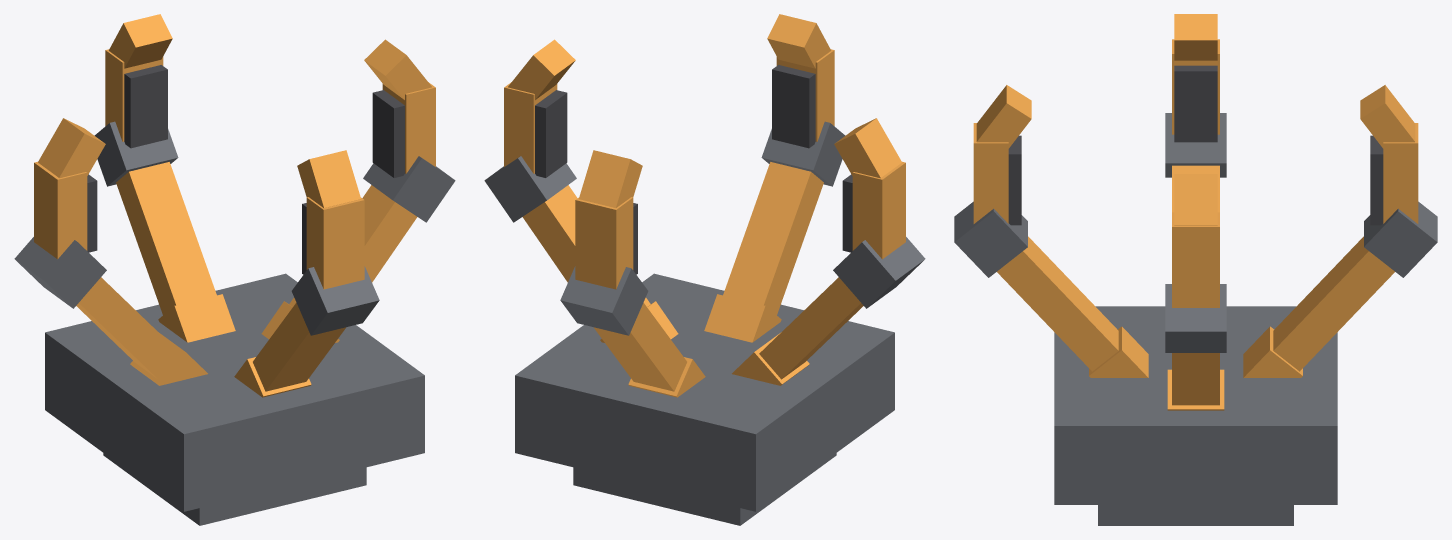
The model's file is gripper.glb.
3 views of the same model, side by side, from view 1: azimuth 30°, elevation 25°; view 2: azimuth 150°, elevation 25°; view 3: azimuth 270°, elevation 25° (orthographic).
Visible parts, largest first — view 1: Palm, Finger1, Finger2, Finger3, Knuckle3, Knuckle2, Knuckle1, Knuckle0, Finger0; view 2: Palm, Finger3, Finger2, Finger1, Knuckle1, Knuckle2, Knuckle3, Knuckle0, Finger0; view 3: Palm, Finger1, Finger3, Finger0, Knuckle0, Knuckle1, Knuckle3, Knuckle2, Finger2.
Boxes of the visible parts, x1=… form: Palm: x1=45, y1=273, x2=424, y2=525; Finger1: x1=94, y1=121, x2=235, y2=342; Finger2: x1=14, y1=237, x2=207, y2=385; Finger3: x1=234, y1=266, x2=379, y2=397; Knuckle3: x1=297, y1=150, x2=364, y2=289; Knuckle2: x1=34, y1=118, x2=105, y2=259; Knuckle1: x1=105, y1=14, x2=172, y2=148; Knuckle0: x1=364, y1=39, x2=435, y2=177; Finger0: x1=261, y1=156, x2=455, y2=342; Palm: x1=515, y1=273, x2=894, y2=525; Finger3: x1=704, y1=121, x2=845, y2=342; Finger2: x1=732, y1=237, x2=925, y2=385; Finger1: x1=560, y1=266, x2=705, y2=397; Knuckle1: x1=575, y1=150, x2=642, y2=289; Knuckle2: x1=834, y1=118, x2=905, y2=259; Knuckle3: x1=767, y1=14, x2=834, y2=148; Knuckle0: x1=504, y1=39, x2=575, y2=177; Finger0: x1=484, y1=156, x2=678, y2=342; Palm: x1=1054, y1=306, x2=1337, y2=525; Finger1: x1=1243, y1=201, x2=1437, y2=377; Finger3: x1=954, y1=201, x2=1148, y2=377; Finger0: x1=1165, y1=284, x2=1226, y2=410; Knuckle0: x1=1172, y1=174, x2=1219, y2=307; Knuckle1: x1=1360, y1=85, x2=1418, y2=225; Knuckle3: x1=973, y1=85, x2=1031, y2=225; Knuckle2: x1=1172, y1=14, x2=1219, y2=142; Finger2: x1=1165, y1=113, x2=1226, y2=212.
Size of the model in its own units: 0.2219 by 0.1978 by 0.2219.
